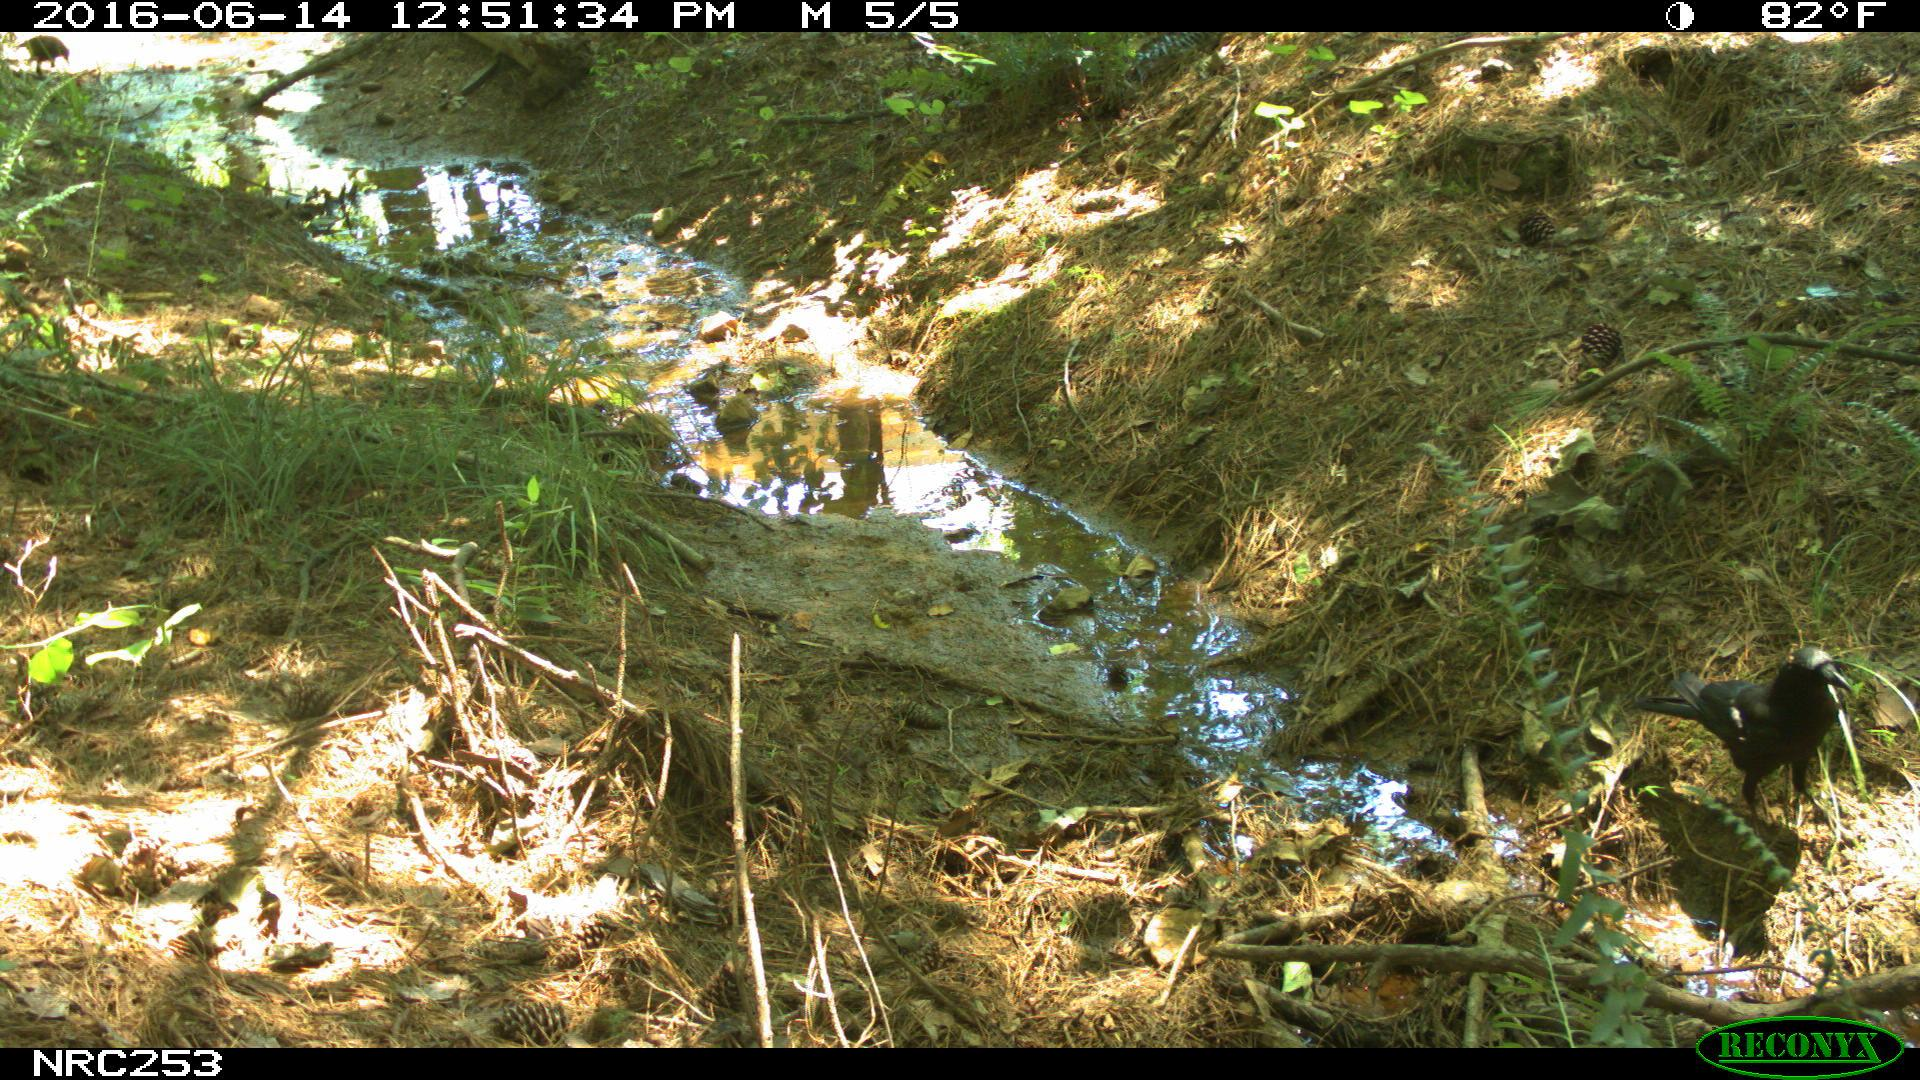Animal: (1644, 644, 1847, 815)
